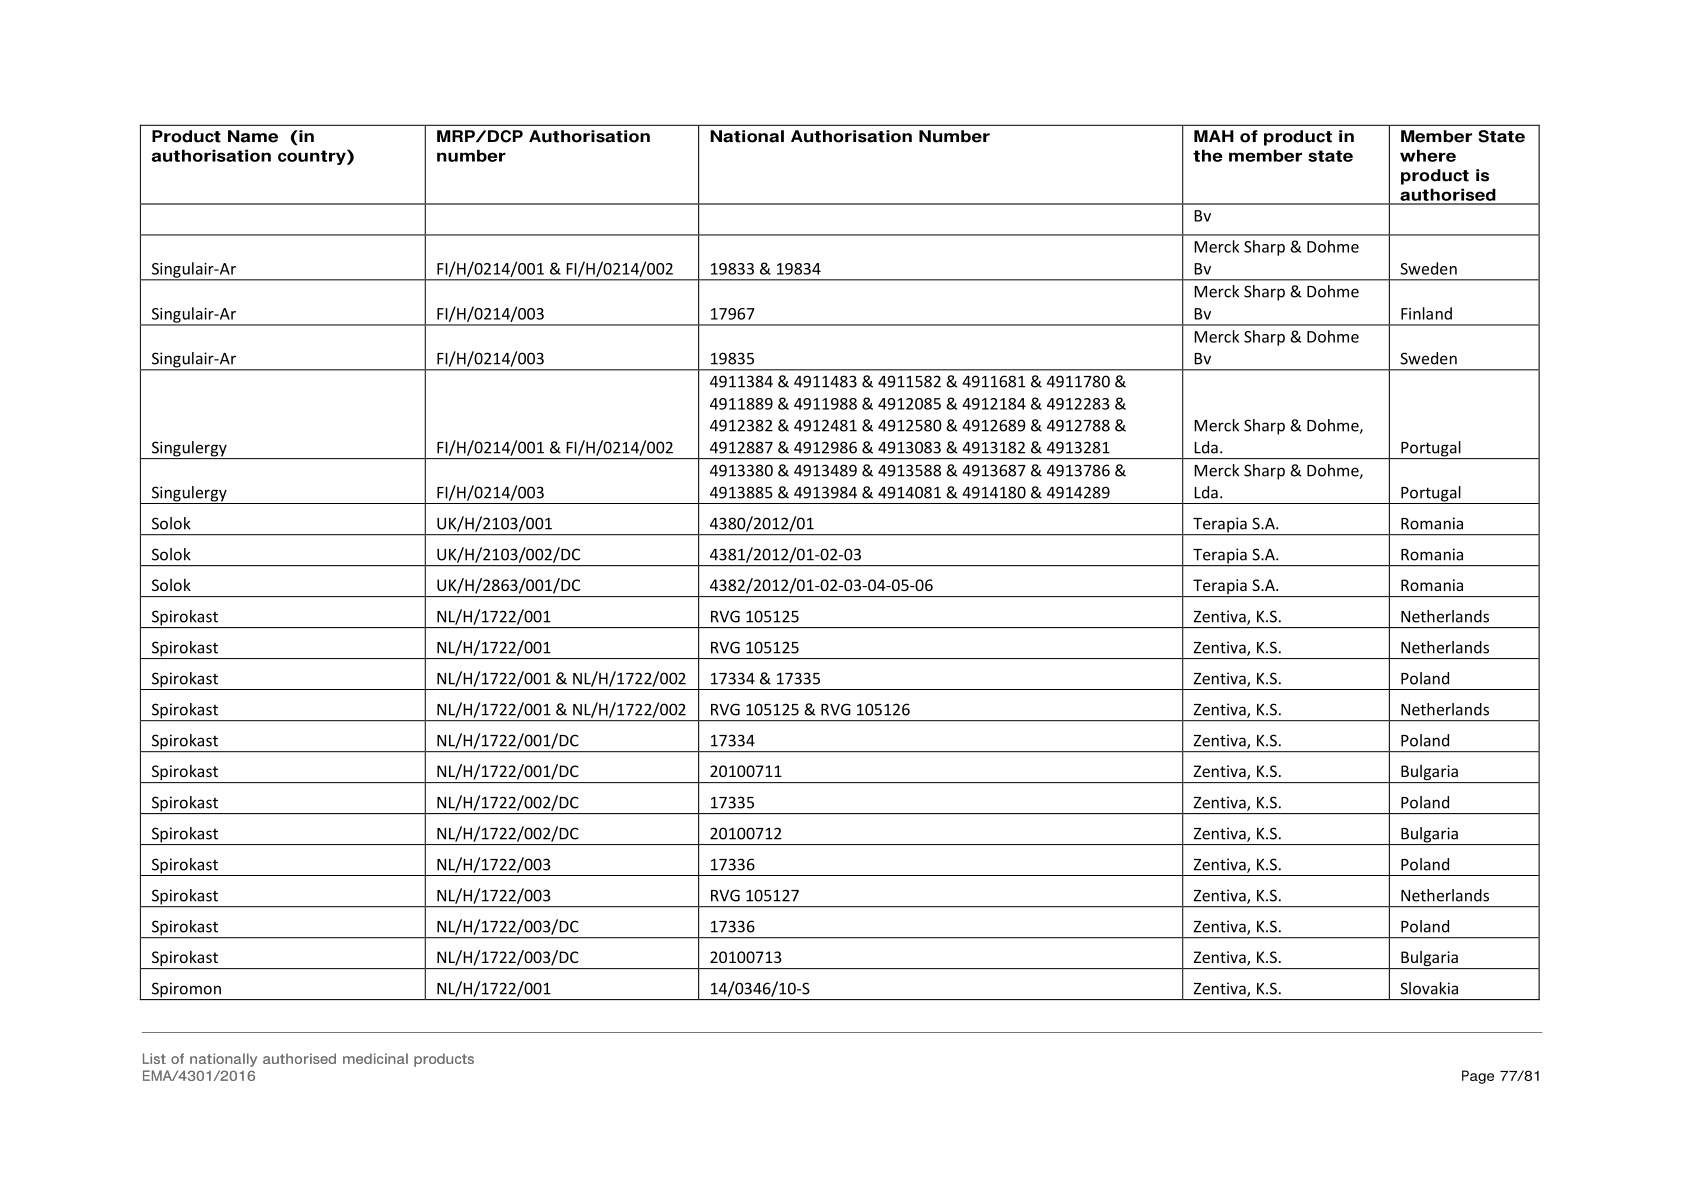full_lined: (138, 124, 1541, 1002)
